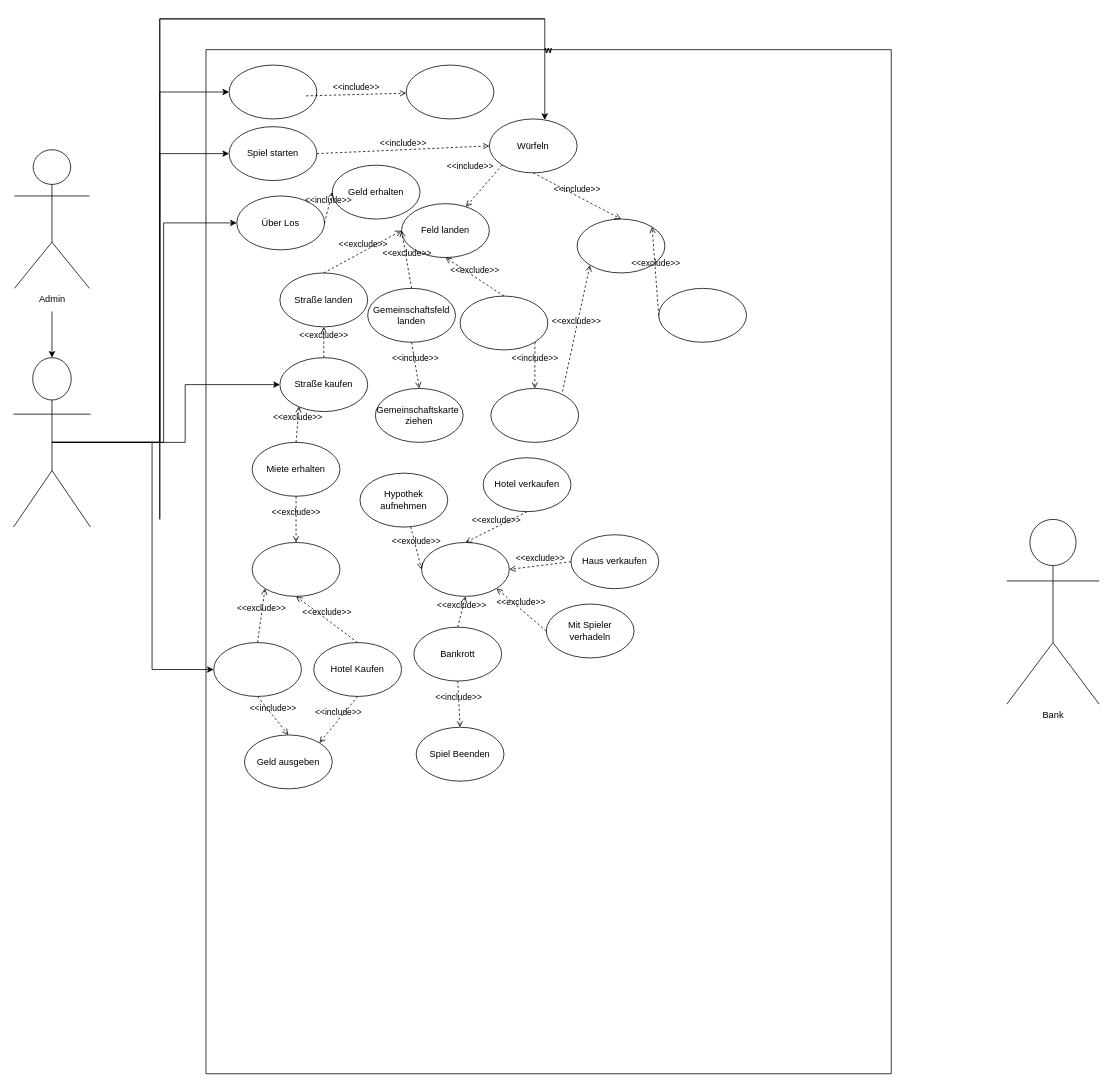
Some shapes in this 1113 by 1087 pixel diagram are drawn without their labels. Here are the shapes that lost their labels. From the top down, the centre of each, then its label:
point 272,91: Login
point 449,91: Passwort verifizieren
point 620,245: Gefängnis gehen
point 503,322: Ereignisfeld landen
point 702,315: Frei aus dem Gefängnis kommen (durch Karte)
point 534,415: Ereigniskarte ziehen
point 51,442: Spieler
point 295,569: Komplette Straße im besitz
point 465,569: Miete bezahlen
point 257,669: Haus Kaufen
